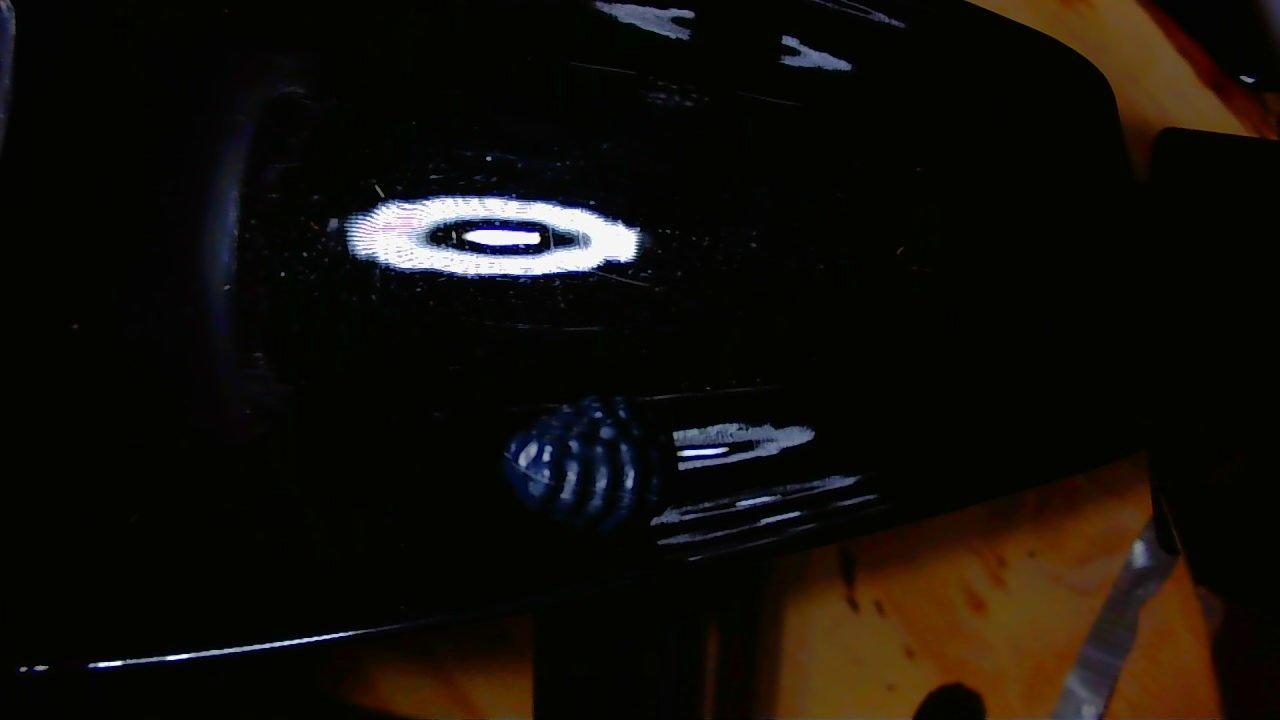berry: (504, 397, 676, 531)
